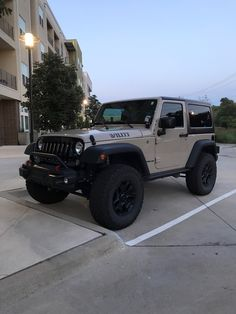car: (10, 88, 226, 233)
